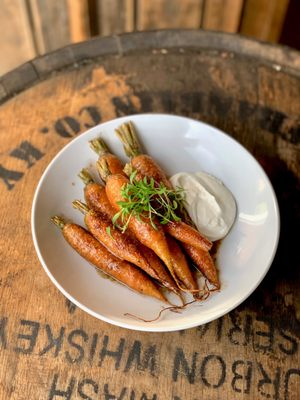curry: (0, 36, 299, 400)
